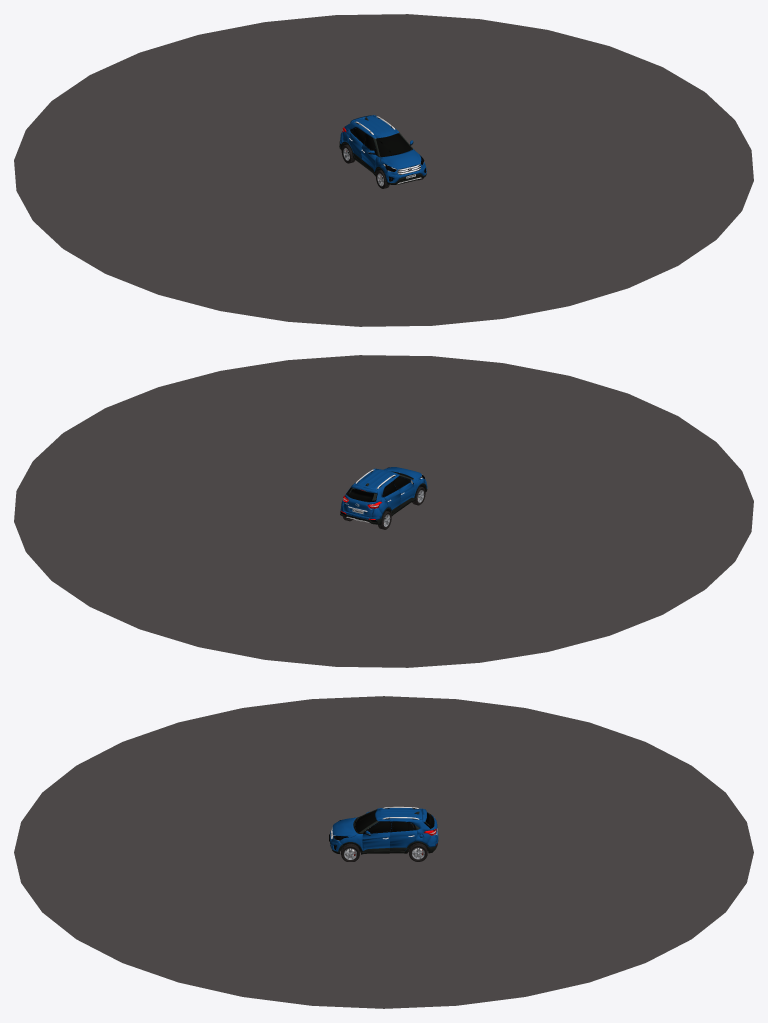
The model's file is hyundai-creta.glb.
The picture shows the model from 3 angles, top to bottom: view 1: azimuth 30°, elevation 25°; view 2: azimuth 150°, elevation 25°; view 3: azimuth 270°, elevation 25°; orthographic projection.
Visible parts, largest first — view 1: Object_3, Object_2; view 2: Object_3, Object_2; view 3: Object_3, Object_2.
Part boxes in pixels (x1=…): Object_3: x1=14, y1=14, x2=753, y2=326; Object_2: x1=339, y1=115, x2=426, y2=188; Object_3: x1=14, y1=355, x2=753, y2=667; Object_2: x1=340, y1=467, x2=427, y2=529; Object_3: x1=14, y1=696, x2=753, y2=1008; Object_2: x1=329, y1=806, x2=438, y2=861.
Bounding box in the file's own units: 29.1 × 1.79 × 29.1.
Materials: 11 (10 with a texture image).
